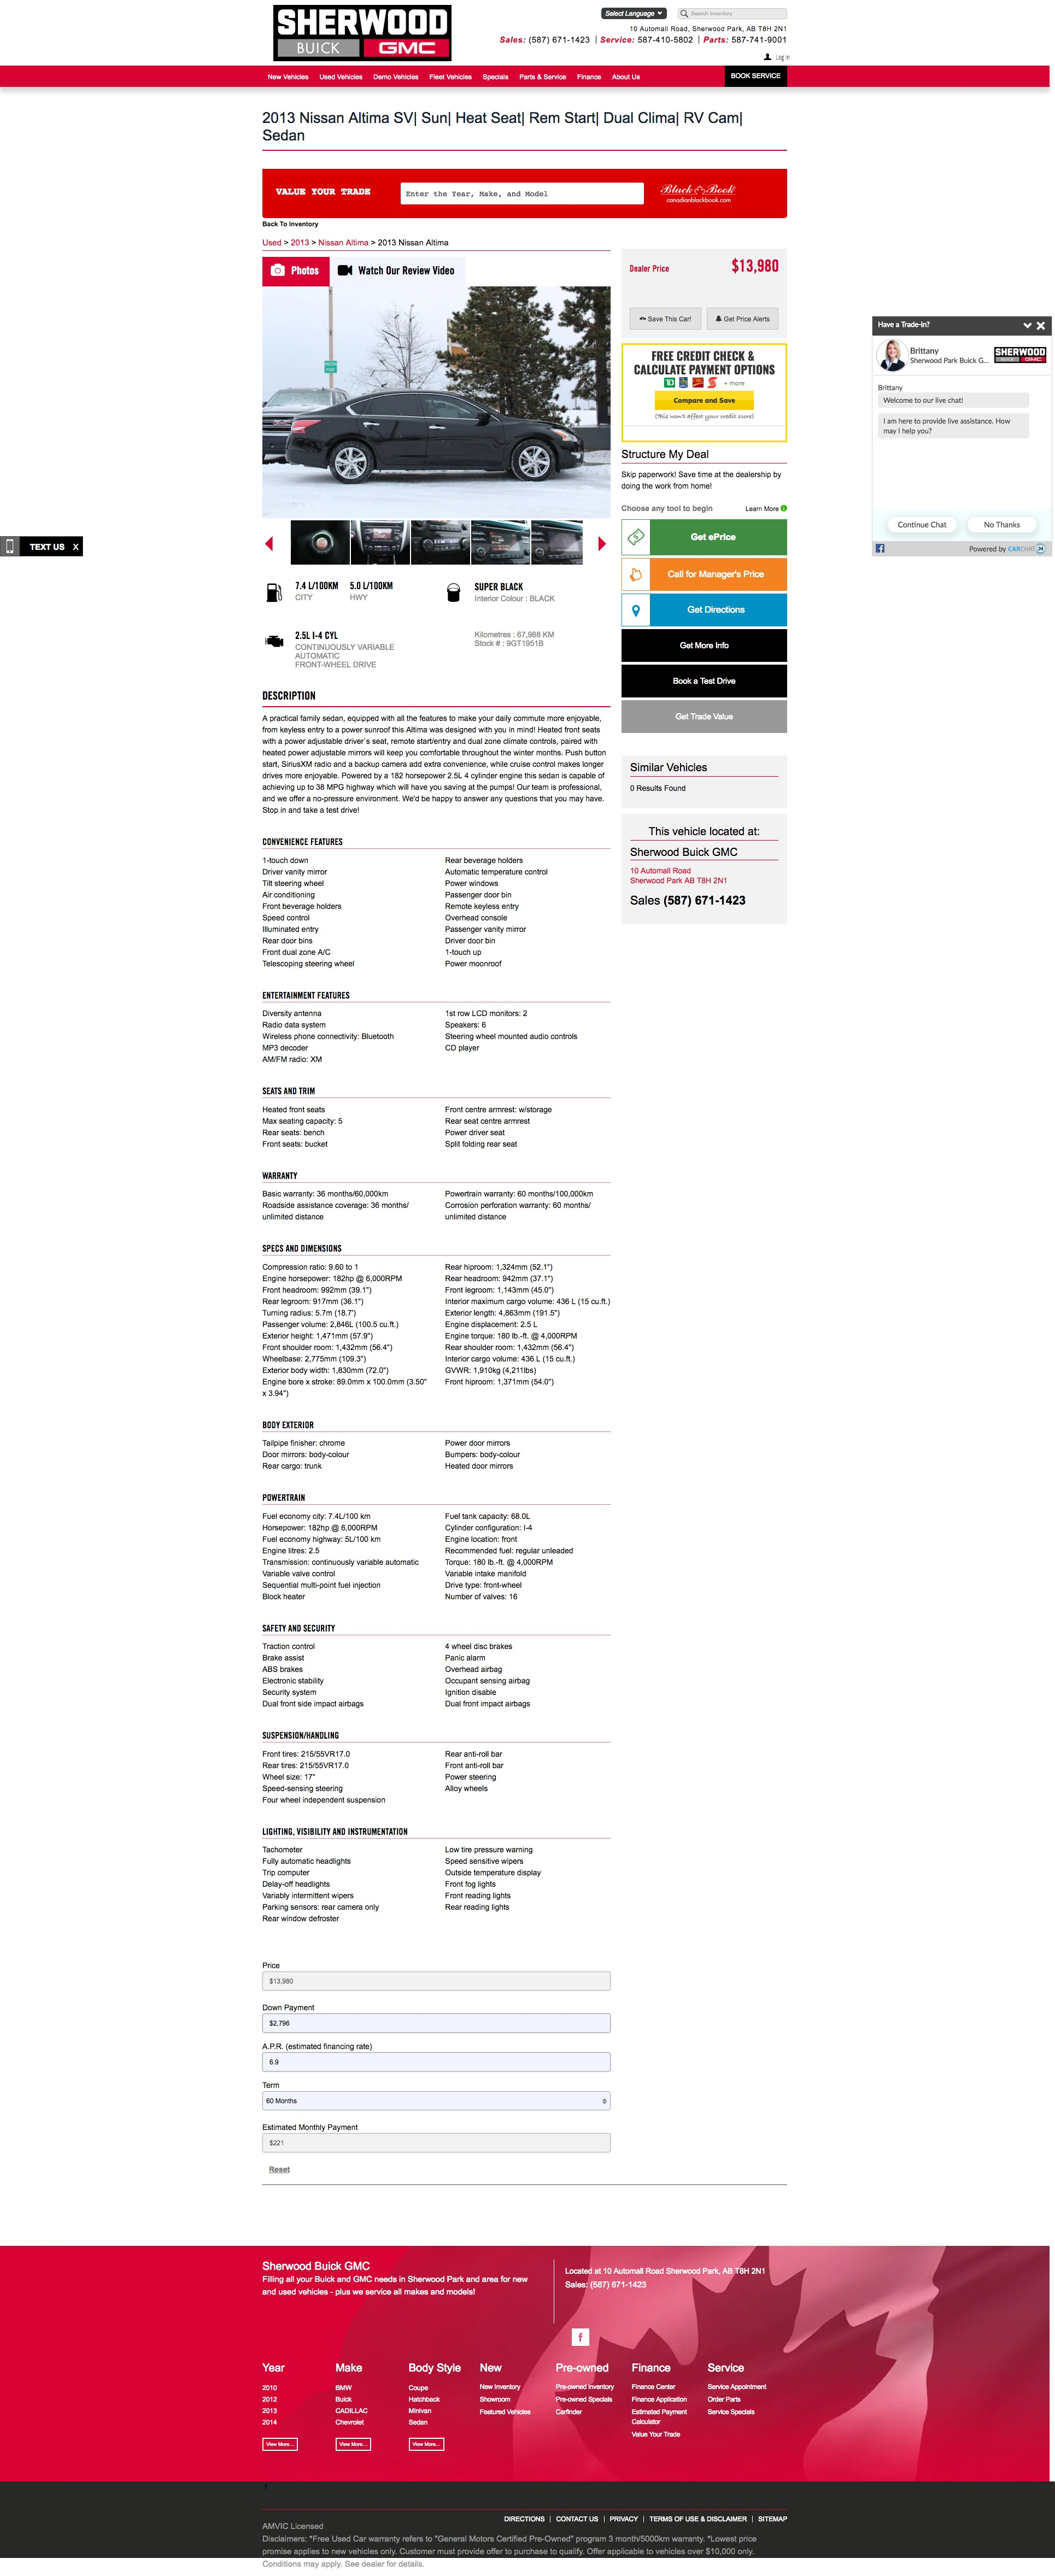car: (598, 536, 606, 552)
